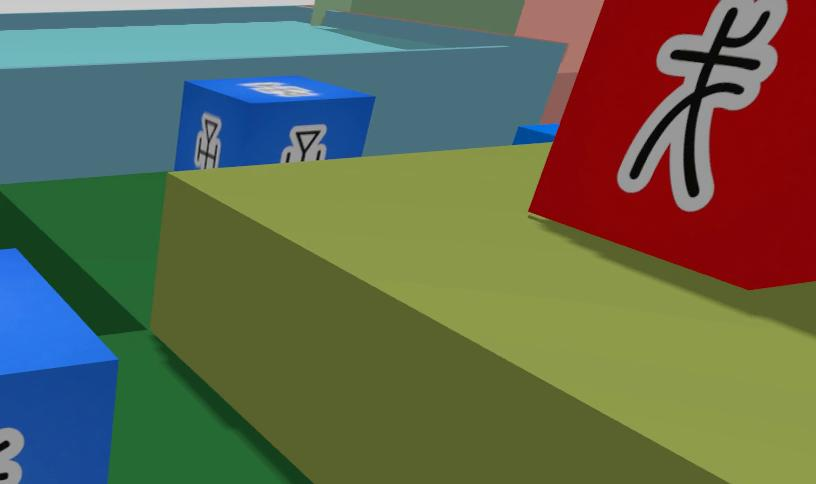KFS_FAKE: (530, 0, 815, 288), (619, 0, 785, 210)
KFS_REAL: (0, 250, 116, 484), (172, 76, 374, 170), (193, 113, 220, 167), (0, 428, 22, 484)
